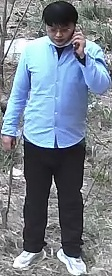phone: (43, 0, 111, 95)
